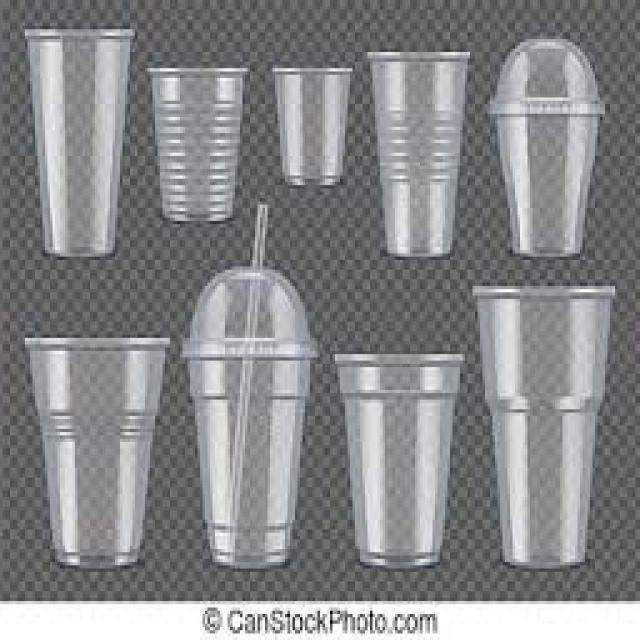plastic: (184, 205, 318, 568), (476, 288, 615, 568), (27, 338, 170, 568), (336, 354, 464, 568), (489, 39, 602, 256), (27, 29, 134, 256), (369, 52, 470, 256), (149, 67, 248, 222), (274, 67, 351, 184)
